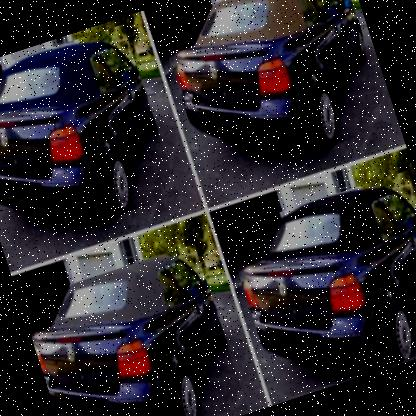Car: (156, 0, 394, 186), (225, 170, 415, 401), (0, 24, 181, 254), (19, 243, 249, 415)
